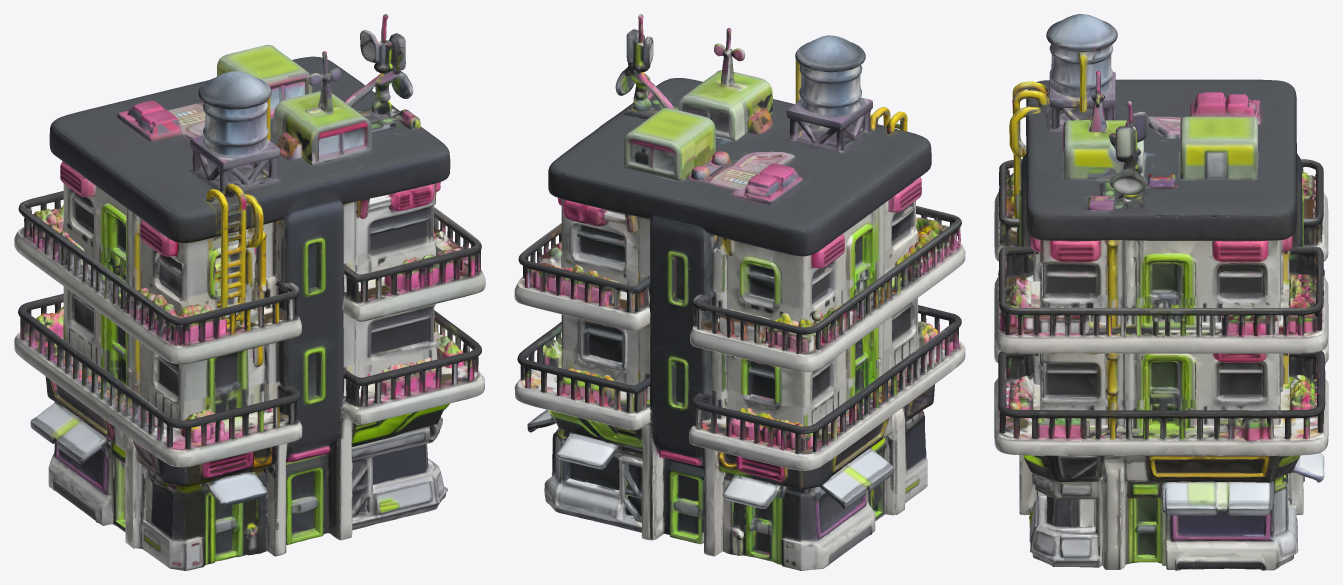
The model's file is u_bld_apartment.glb.
3 views of the same model, side by side, from view 1: azimuth 30°, elevation 25°; view 2: azimuth 150°, elevation 25°; view 3: azimuth 270°, elevation 25° (orthographic). The views are drawn at different scales.
Parts seen in each view (by area): view 1: geometry_0; view 2: geometry_0; view 3: geometry_0.
Boxes of the visible parts, x1=… form: geometry_0: x1=14, y1=14, x2=485, y2=570; geometry_0: x1=514, y1=14, x2=965, y2=570; geometry_0: x1=994, y1=14, x2=1328, y2=570.
Bounding box in the file's own units: 9.07 × 12 × 7.96.
Materials: 1 (1 with a texture image).
